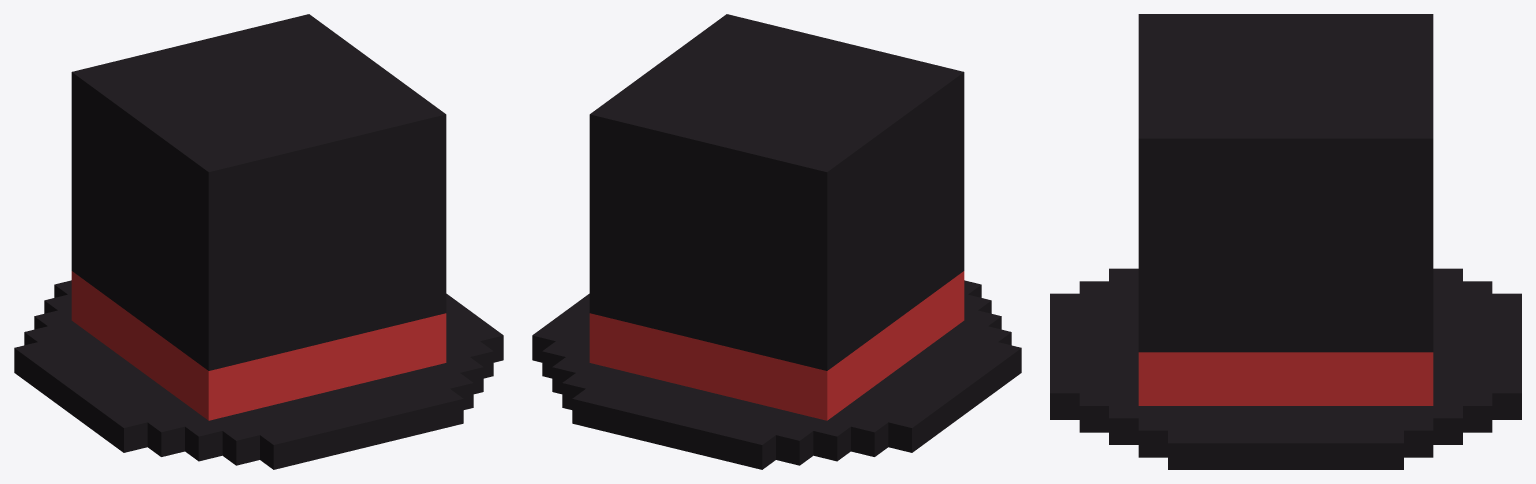
Rendered from top_hat.glb.
3 renders of one model, left to right at view 1: azimuth 30°, elevation 25°; view 2: azimuth 150°, elevation 25°; view 3: azimuth 270°, elevation 25°, orthographic. The views are drawn at different scales.
Visible parts, largest first — view 1: top_hat; view 2: top_hat; view 3: top_hat.
Boxes of the visible parts, x1,y1,x2,y2 form: top_hat: (14, 14, 503, 469); top_hat: (532, 14, 1021, 469); top_hat: (1050, 14, 1521, 469).
Bounding box in the file's own units: 0.8 × 0.55 × 0.8.
Materials: 1 (1 with a texture image).
